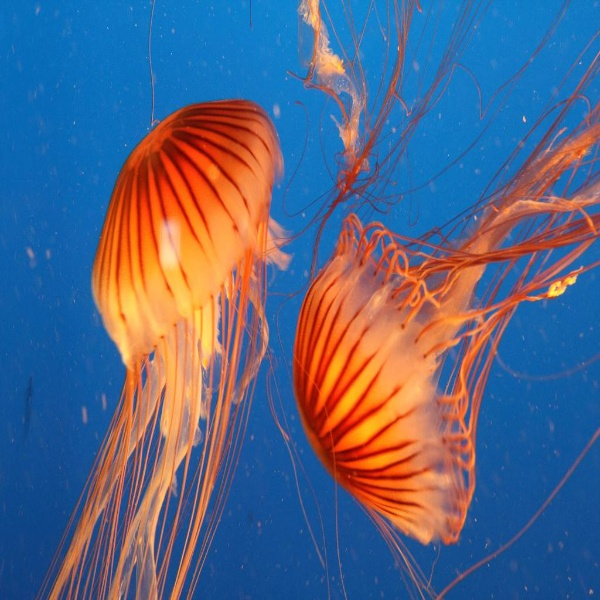Jellyfish: (32, 0, 329, 600)
